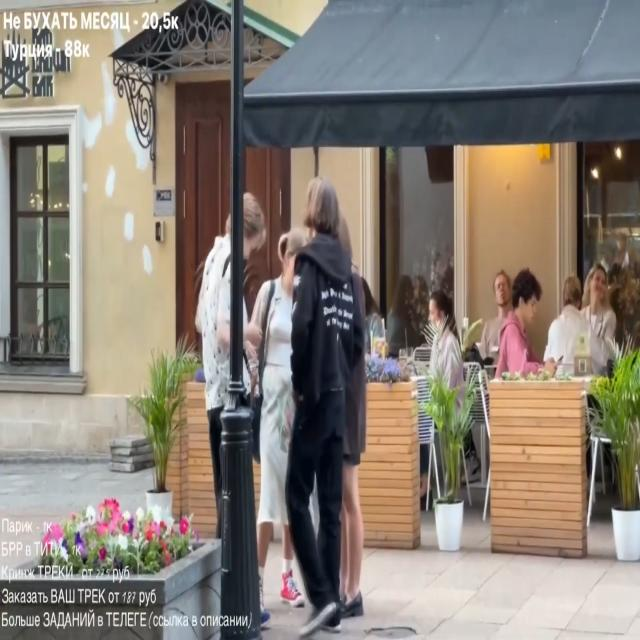Person: (275, 178, 380, 640), (494, 270, 553, 376), (544, 274, 595, 374), (581, 268, 620, 372)
